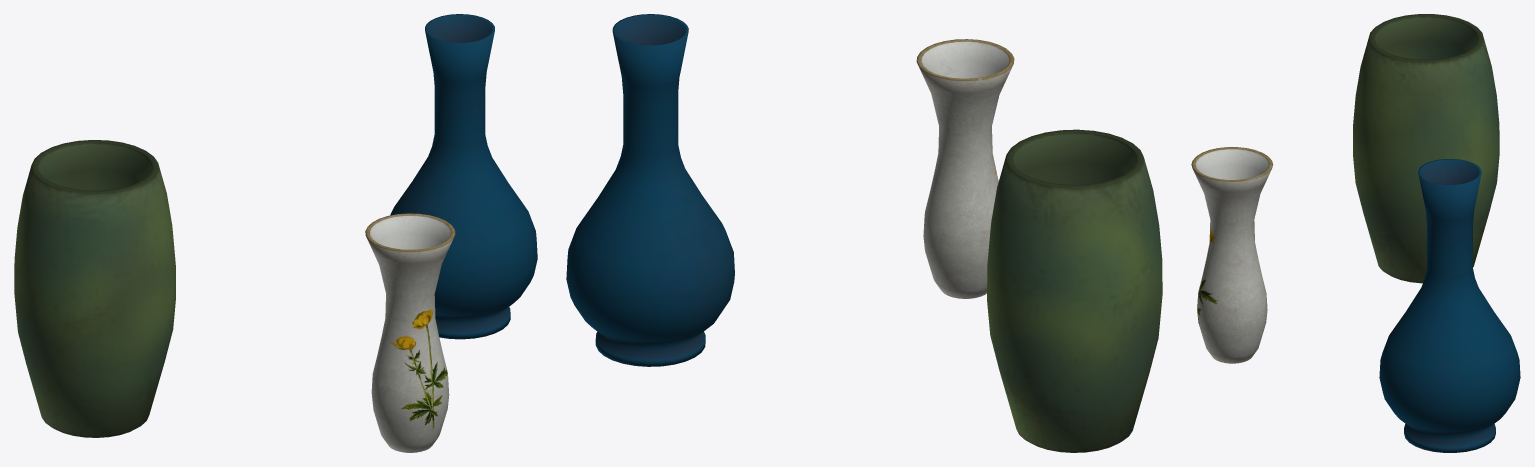
File: skadaa658b.glb
The picture shows the model from 3 angles, left to right: view 1: azimuth 30°, elevation 25°; view 2: azimuth 150°, elevation 25°; view 3: azimuth 270°, elevation 25°; orthographic projection. The views are drawn at different scales.
Parts seen in each view (by area): view 1: Vase2_7, Vase3_8, Vase1_6; view 2: Vase2_7, Vase3_8, Vase1_6; view 3: Vase2_7, Vase3_8, Vase1_6.
Part boxes in pixels (left/top/right/bottom): Vase2_7: left=14, top=140, right=175, bottom=437; Vase3_8: left=390, top=14, right=537, bottom=339; Vase1_6: left=365, top=213, right=455, bottom=452; Vase2_7: left=987, top=129, right=1162, bottom=452; Vase3_8: left=566, top=14, right=734, bottom=366; Vase1_6: left=916, top=39, right=1014, bottom=298; Vase2_7: left=1353, top=14, right=1499, bottom=283; Vase3_8: left=1379, top=159, right=1520, bottom=452; Vase1_6: left=1191, top=147, right=1273, bottom=363.
Bounding box in the file's own units: 0.5219 × 0.28 × 0.3195.
Materials: 1 (1 with a texture image).
